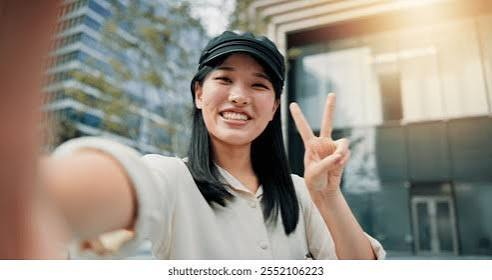peace_sign: (289, 91, 352, 197)
